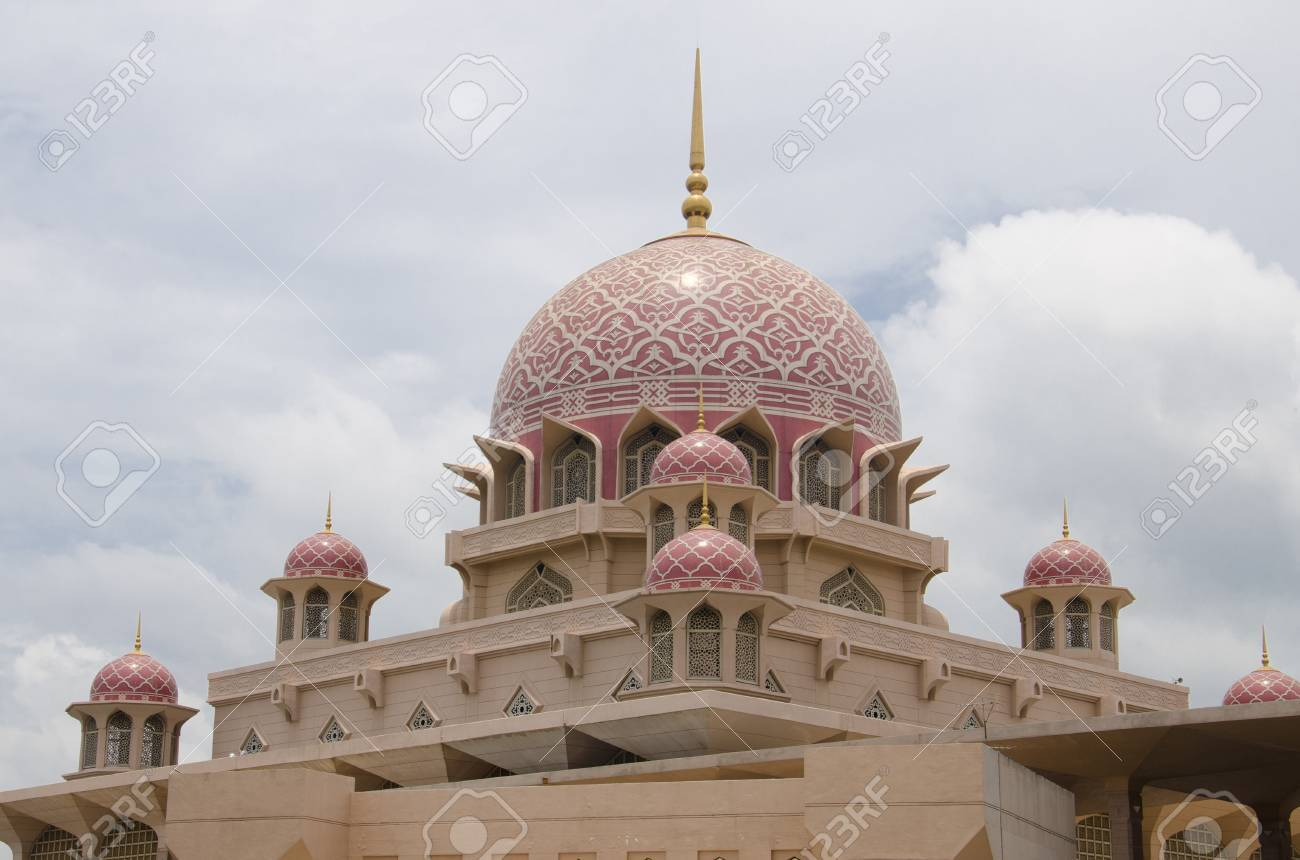Mosque: (141, 35, 1134, 823)
